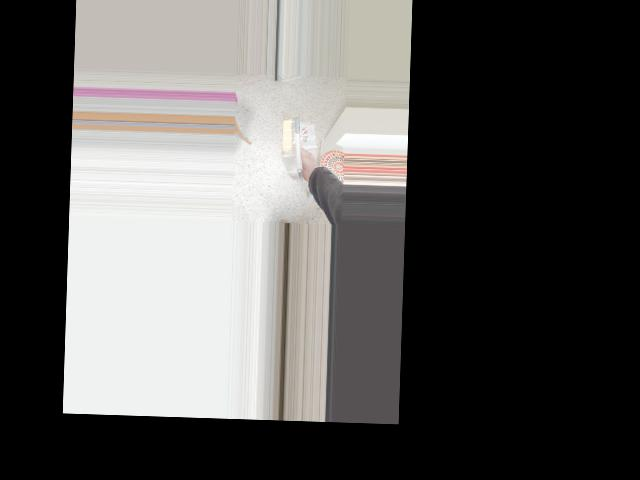cheese: (273, 115, 316, 177)
